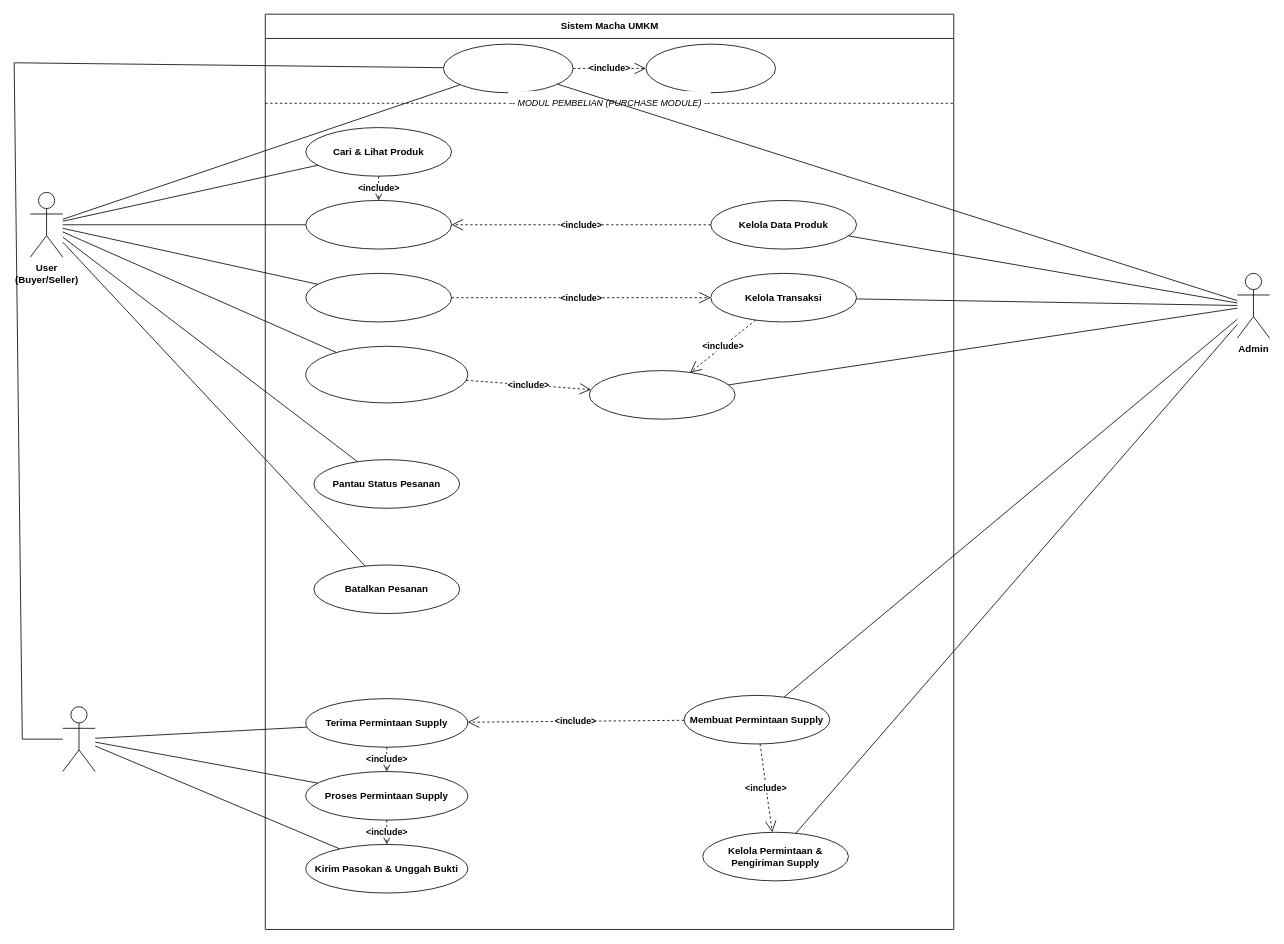
Image size: 1284x944. Some labels were removed from this diagram. Each missing label, with the centre of its shape:
"Beli Produk" goes at point (378, 297).
"Lihat Daftar Produk" goes at point (378, 224).
"Login" goes at point (508, 68).
"Logout" goes at point (710, 68).
"Melakukan Pembayaran" goes at point (386, 374).
"Supplier" goes at point (78, 739).
"Verifikasi Pembayaran" goes at point (661, 394).
